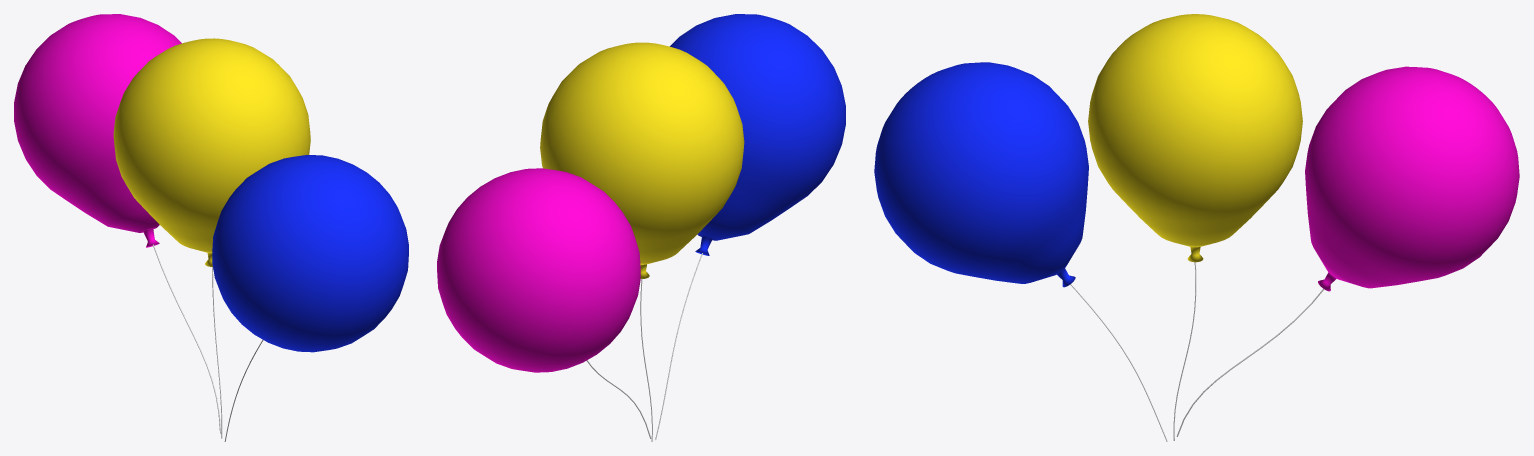
The model's file is balloon.gltf.
3 views of the same model, side by side, from view 1: azimuth 30°, elevation 25°; view 2: azimuth 150°, elevation 25°; view 3: azimuth 270°, elevation 25° (orthographic). The views are drawn at different scales.
Visible parts, largest first — view 1: Sphere.002, Sphere.001, Sphere.003; view 2: Sphere.003, Sphere.001, Sphere.002; view 3: Sphere.003, Sphere.002, Sphere.001.
Part boxes in pixels (x1,y1,x2,y2): Sphere.002: (212,155,408,352); Sphere.001: (113,38,310,266); Sphere.003: (14,14,181,247); Sphere.003: (437,168,640,372); Sphere.001: (540,42,744,278); Sphere.002: (670,14,845,255); Sphere.003: (1305,66,1519,291); Sphere.002: (874,62,1088,287); Sphere.001: (1088,14,1302,262).
Size of the model in its own units: 2 by 4.29 by 6.01.
